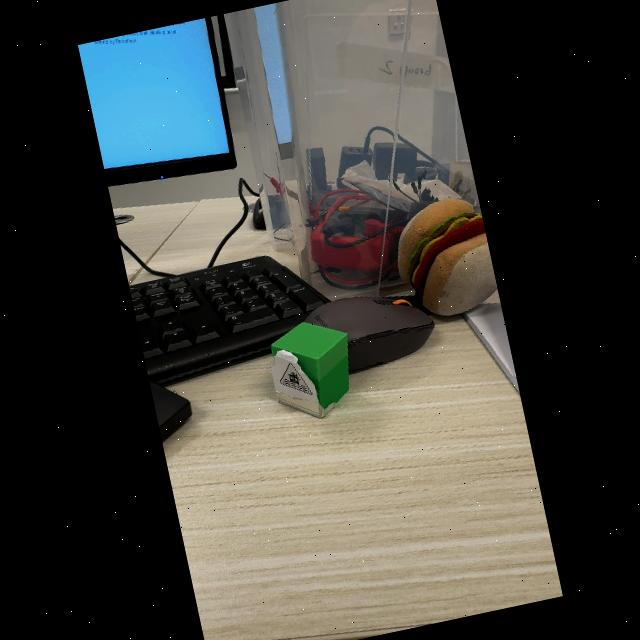Tsunami: (280, 363, 311, 394)
